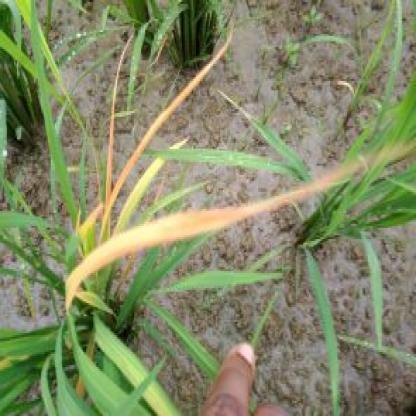Tungro: (69, 179, 354, 290)
